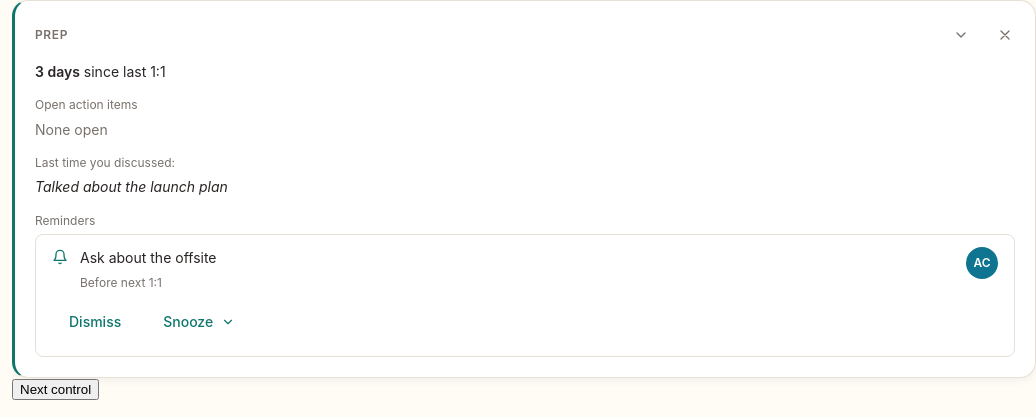
PrepPrompts › dismisses a reminder from the card
Click the button with aria-label "Dismiss reminder". click: (95, 322)
box: [52,300,138,344]
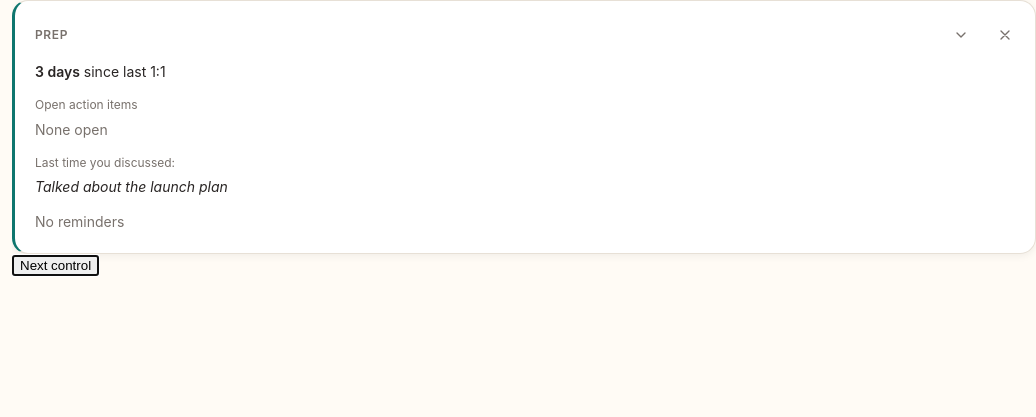
Now the text "No reminders" is shown, box [35,212,124,230]
